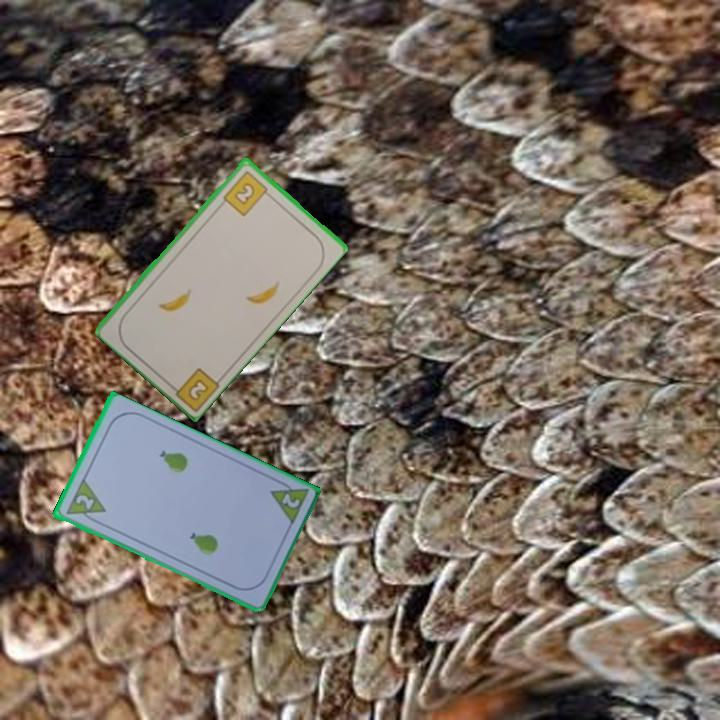2b: (219, 167, 274, 218), (164, 364, 222, 412)
2p: (265, 475, 311, 529), (62, 477, 108, 527)
